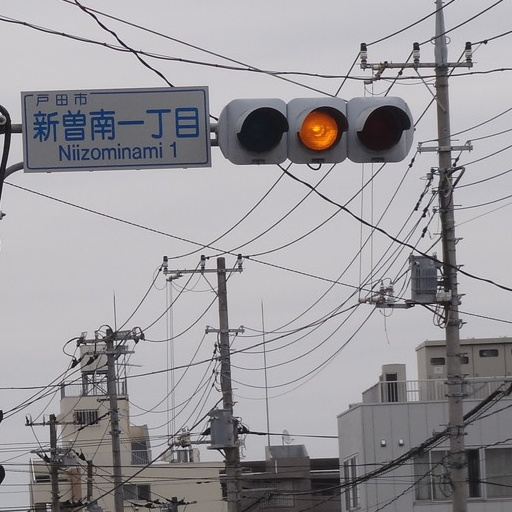Traffic_Signal_Yellow: (224, 98, 416, 162)
